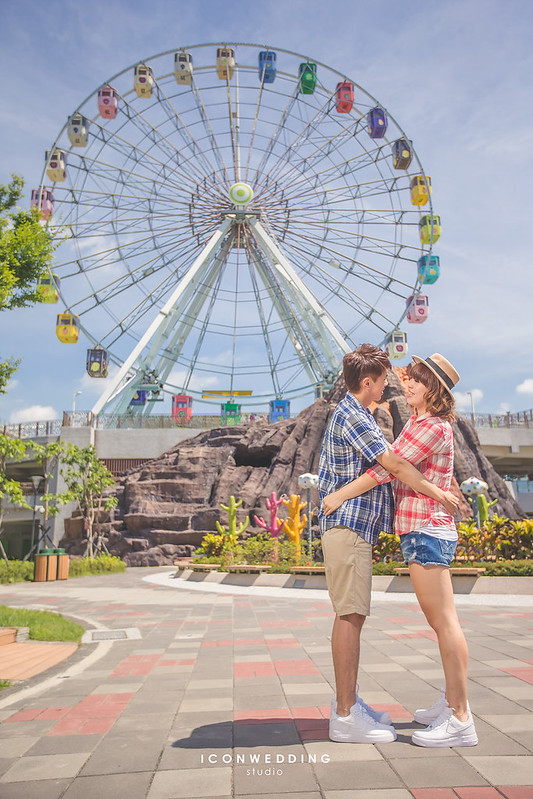people: (396, 362, 475, 748), (322, 345, 393, 743)
